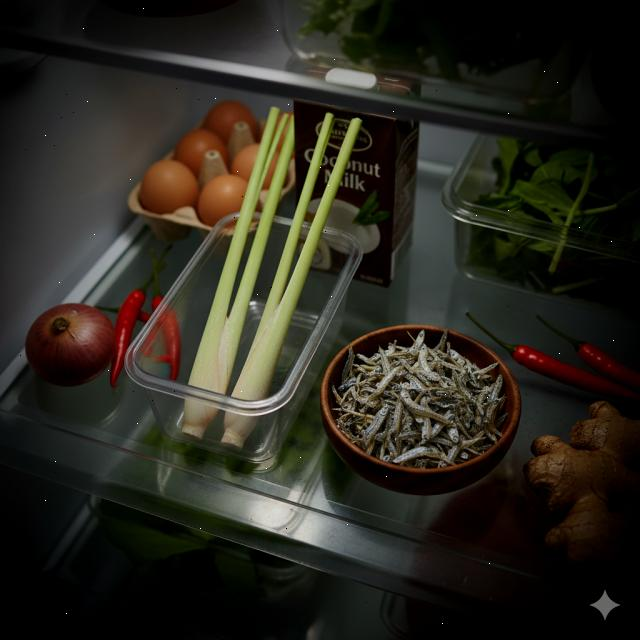anchovies: (334, 328, 506, 470)
chili: (465, 310, 640, 403), (110, 243, 182, 389)
egg: (128, 100, 294, 244)
ginger: (522, 399, 640, 569)
leafy_greens: (464, 138, 640, 306)
lemongrass: (180, 105, 362, 451)
onion: (25, 304, 117, 388)
